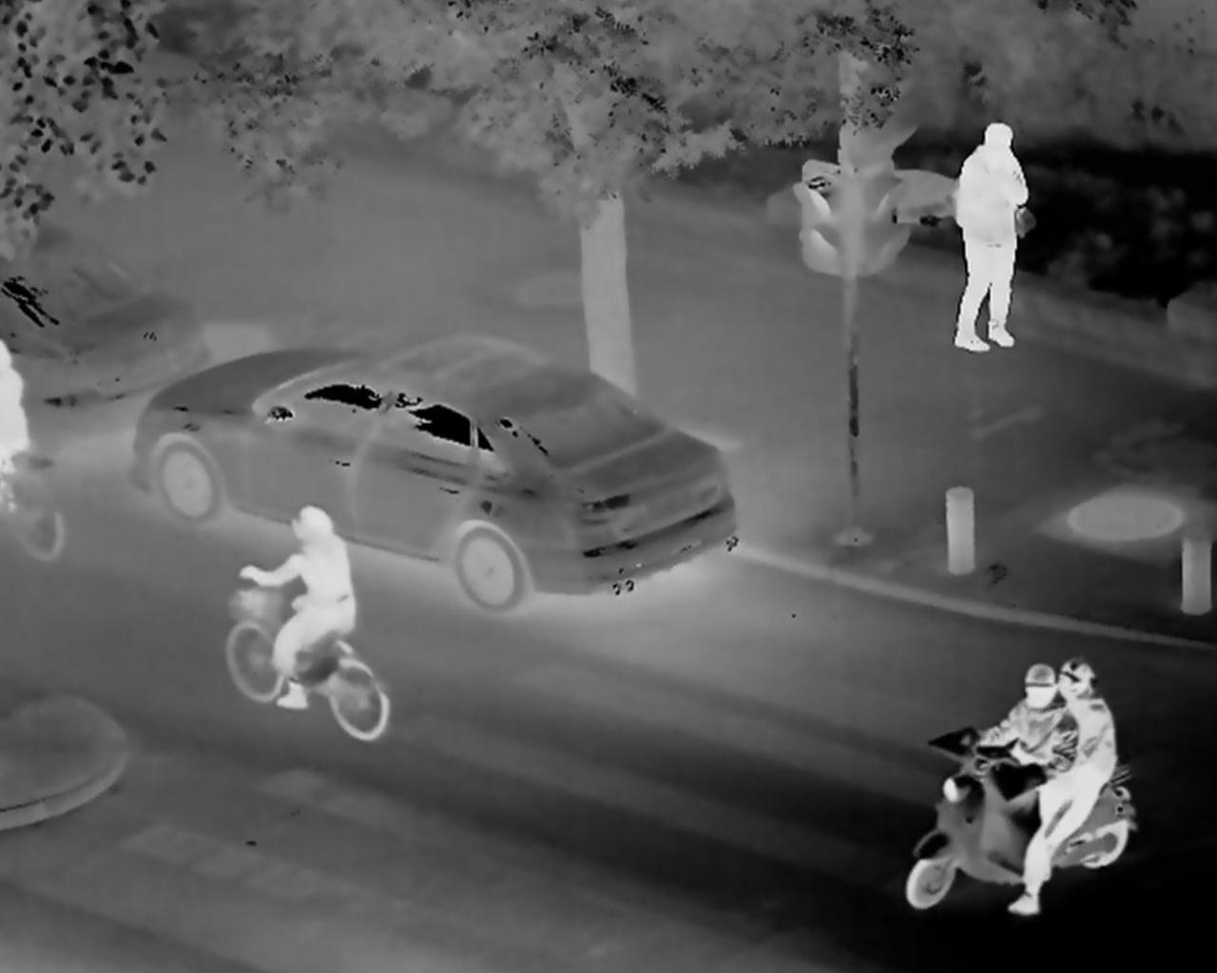person: (228, 496, 357, 719), (952, 116, 1039, 360), (1035, 662, 1119, 909), (960, 649, 1071, 787)
